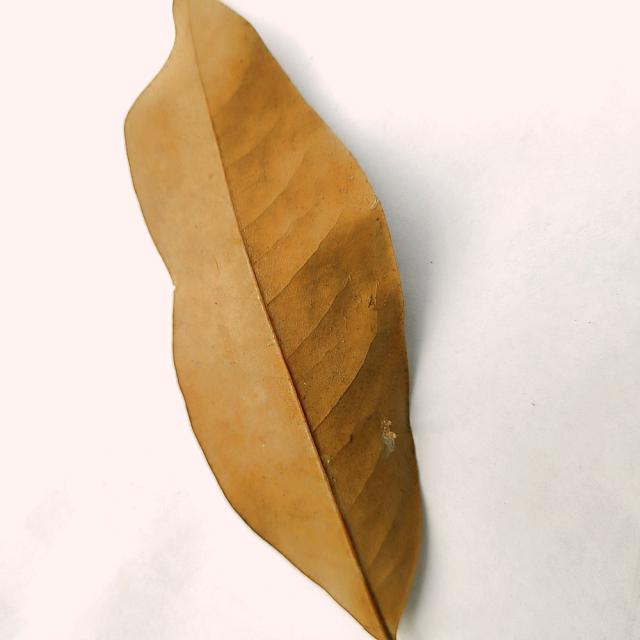Dry_Leaf-Lychee: (124, 0, 429, 639)
